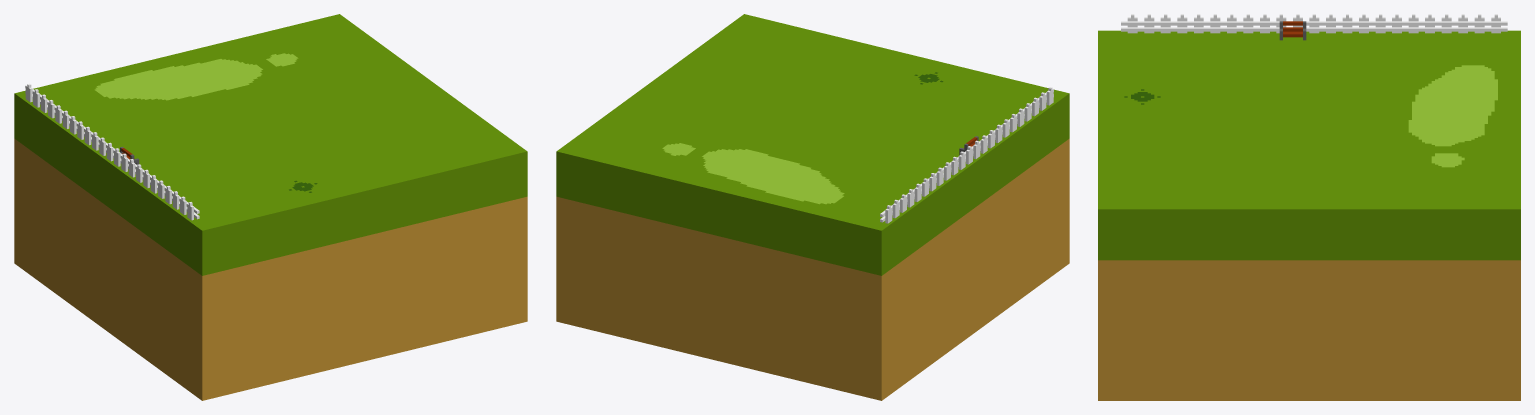
3 renders of one model, left to right at view 1: azimuth 30°, elevation 25°; view 2: azimuth 150°, elevation 25°; view 3: azimuth 270°, elevation 25°, orthographic. The views are drawn at different scales.
Parts seen in each view (by area): view 1: 1J.001; view 2: 1J.001; view 3: 1J.001.
Part boxes in pixels (x1,y1,x2,y2): 1J.001: (14, 14, 527, 400); 1J.001: (556, 14, 1069, 400); 1J.001: (1098, 14, 1520, 400).
Size of the model in its own units: 12.8 by 7 by 12.8.
1 material, 1 textured.
